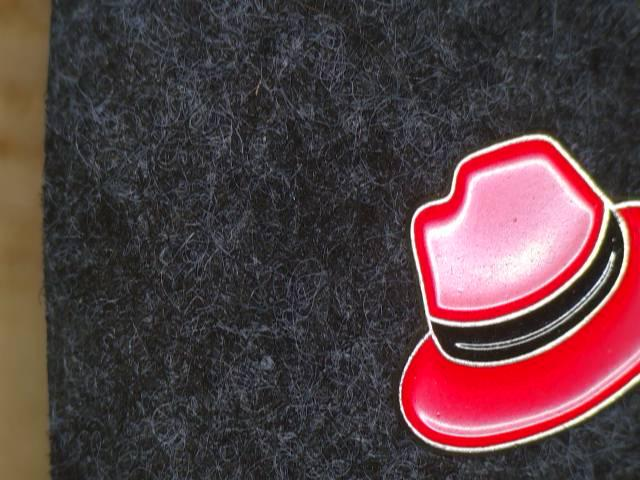Red-Hat: (358, 119, 640, 466)
